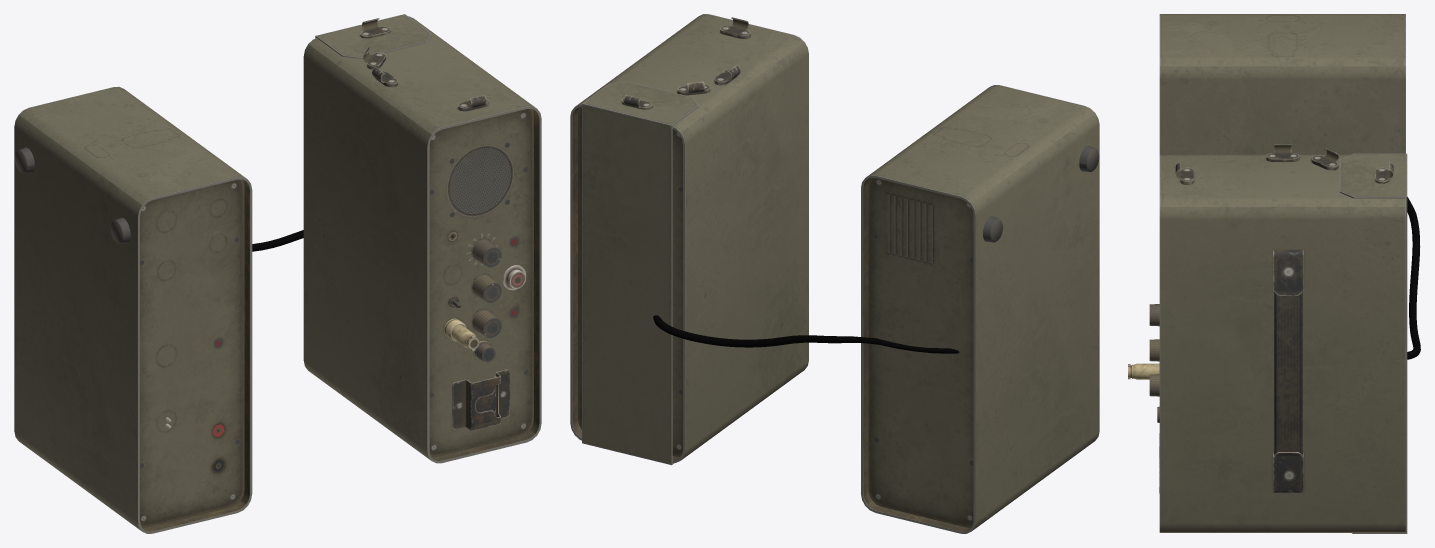
Rendered from amplifier.glb.
The picture shows the model from 3 angles, left to right: view 1: azimuth 30°, elevation 25°; view 2: azimuth 150°, elevation 25°; view 3: azimuth 270°, elevation 25°; orthographic projection.
Parts seen in each view (by area): view 1: Amplifier; view 2: Amplifier; view 3: Amplifier, CordAttach.
Part boxes in pixels (x1,y1,x2,y2): Amplifier: (14, 14, 541, 533); Amplifier: (570, 14, 1099, 533); Amplifier: (1149, 14, 1420, 533); CordAttach: (1128, 363, 1159, 379).
Bounding box in the file's own units: 0.6293 × 0.4967 × 0.3792.
2 materials, 1 textured.
